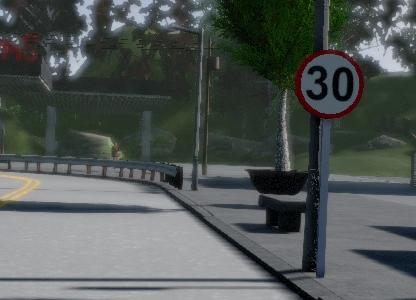Speed_30: (291, 47, 366, 124)
